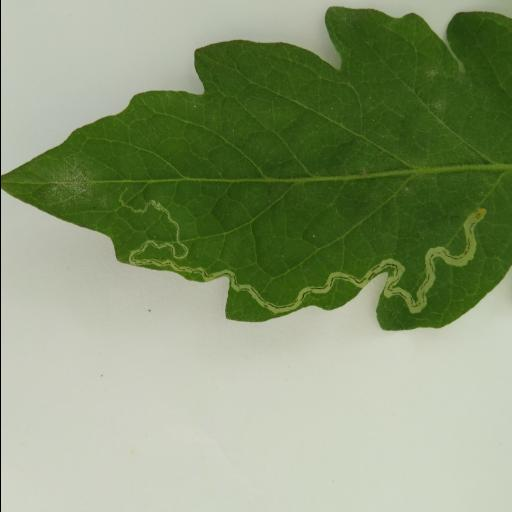Leaf Miner: (0, 6, 512, 336)
